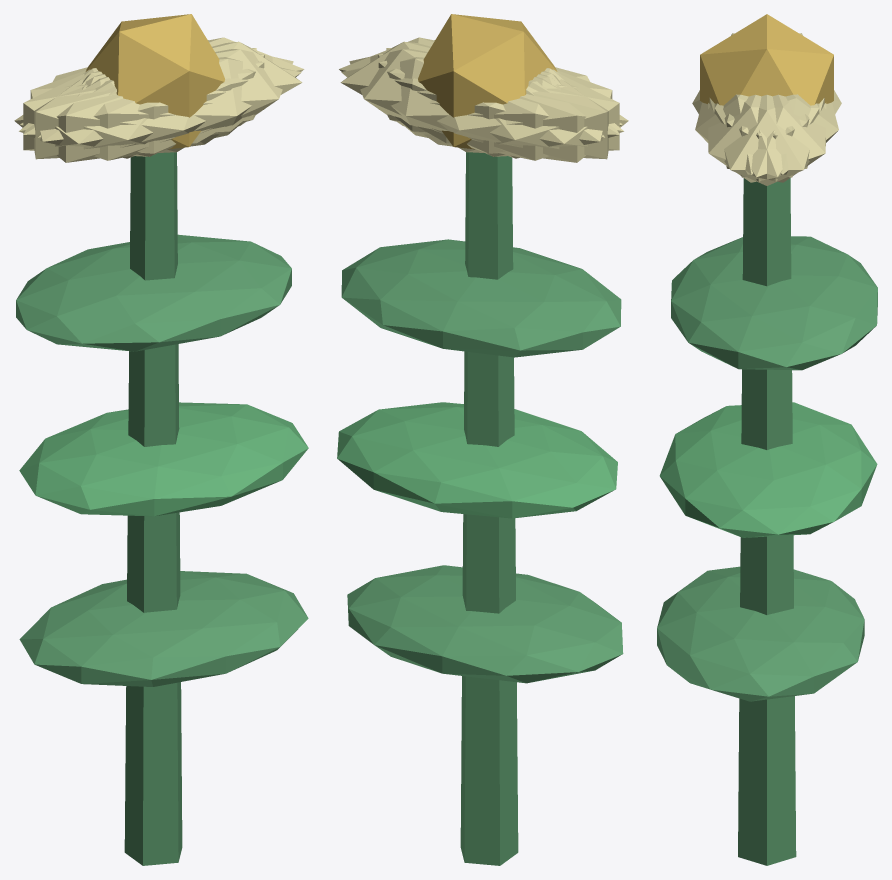
Rendered from pelargonium-glutinosum.glb.
The picture shows the model from 3 angles, left to right: view 1: azimuth 30°, elevation 25°; view 2: azimuth 150°, elevation 25°; view 3: azimuth 270°, elevation 25°; orthographic projection.
Parts seen in each view (by area): view 1: stem, leaf1, leaf0, leaf2, center, petal1, petal6, petal2, petal5, petal7, petal0, petal4 (+2 smaller); view 2: stem, leaf2, leaf1, leaf0, center, petal8, petal3, petal7, petal4, petal2, petal0, petal5 (+2 smaller); view 3: stem, leaf1, leaf2, leaf0, center, petal0, petal4, petal5, petal1, petal8.
Part boxes in pixels (x1=…): stem: x1=124, y1=152, x2=182, y2=865; leaf1: x1=19, y1=402, x2=308, y2=516; leaf0: x1=19, y1=571, x2=308, y2=686; leaf2: x1=16, y1=234, x2=291, y2=351; center: x1=85, y1=14, x2=224, y2=149; petal1: x1=19, y1=57, x2=301, y2=160; petal6: x1=14, y1=69, x2=218, y2=162; petal2: x1=34, y1=48, x2=256, y2=159; petal5: x1=38, y1=49, x2=293, y2=153; petal7: x1=23, y1=54, x2=264, y2=156; petal0: x1=85, y1=41, x2=302, y2=143; petal4: x1=20, y1=37, x2=304, y2=134; stem: x1=460, y1=152, x2=518, y2=865; leaf2: x1=341, y1=239, x2=621, y2=357; leaf1: x1=337, y1=402, x2=617, y2=518; leaf0: x1=347, y1=565, x2=623, y2=683; center: x1=418, y1=14, x2=557, y2=149; petal8: x1=341, y1=57, x2=623, y2=160; petal3: x1=424, y1=69, x2=628, y2=162; petal7: x1=386, y1=48, x2=608, y2=159; petal4: x1=349, y1=49, x2=604, y2=153; petal2: x1=378, y1=54, x2=619, y2=156; petal0: x1=340, y1=41, x2=557, y2=143; petal5: x1=339, y1=37, x2=622, y2=134; stem: x1=738, y1=178, x2=796, y2=865; leaf1: x1=659, y1=402, x2=877, y2=537; leaf2: x1=671, y1=236, x2=877, y2=370; leaf0: x1=657, y1=566, x2=864, y2=701; center: x1=700, y1=14, x2=833, y2=105; petal0: x1=709, y1=95, x2=824, y2=185; petal4: x1=714, y1=94, x2=826, y2=182; petal5: x1=708, y1=94, x2=819, y2=182; petal1: x1=695, y1=94, x2=809, y2=174; petal8: x1=724, y1=94, x2=838, y2=174.
Size of the model in its own units: 0.1452 by 0.4143 by 0.101.
